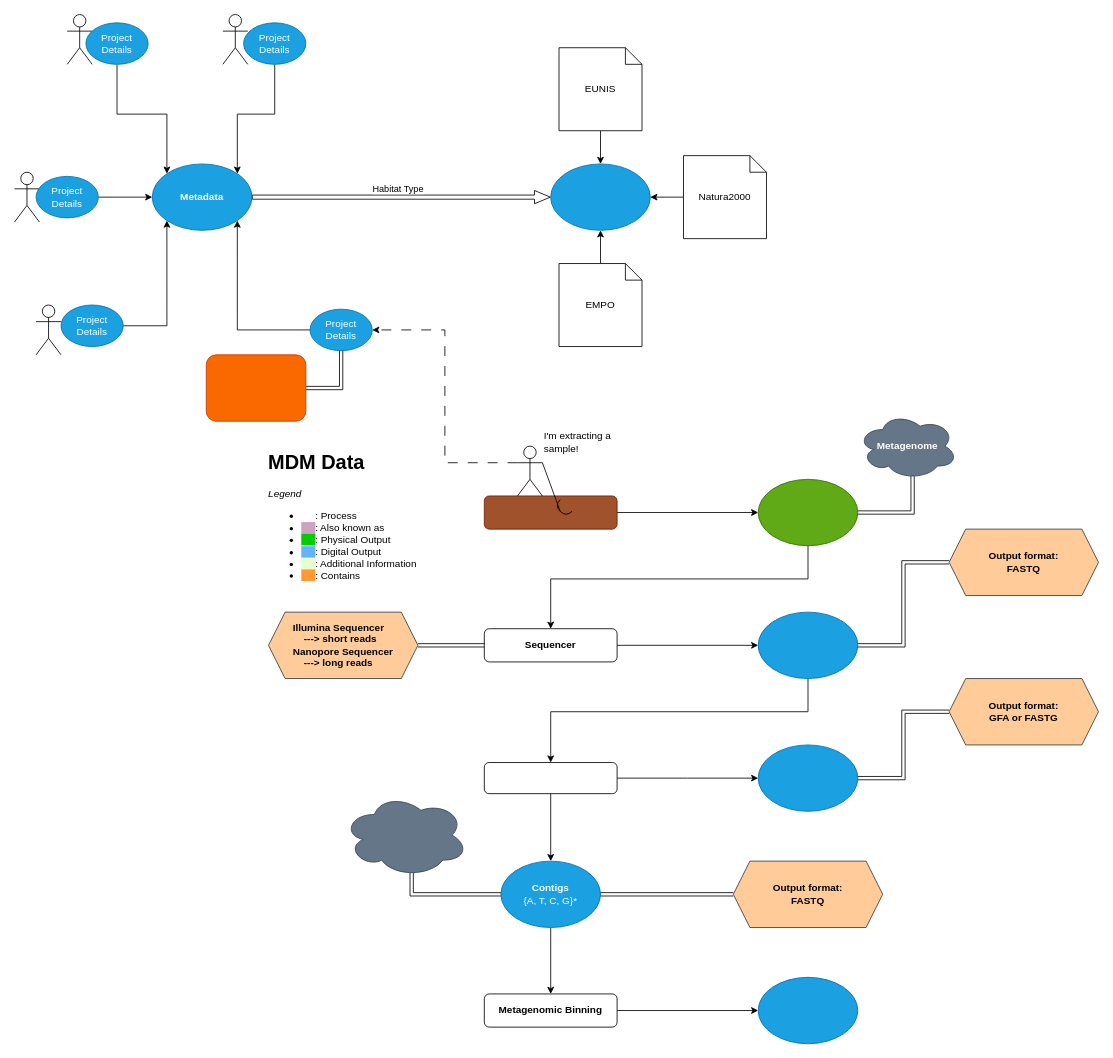
This 1113x1058 diagram has some shape labels left out. The centre of each missing label's shape, as x and y in pixels:
(Long/Short) Reads {A, T, C, G}*: the point at 807,645
- Sample Type - Date - Location - Habitat Type: the point at 255,387
Assembler: the point at 550,778
Assembly Graph: the point at 807,777
Contigs of same Population: the point at 807,1010
Metagenome Assembled Genome: the point at 405,835
Ontology: the point at 600,196
Soil Sample: the point at 807,512
